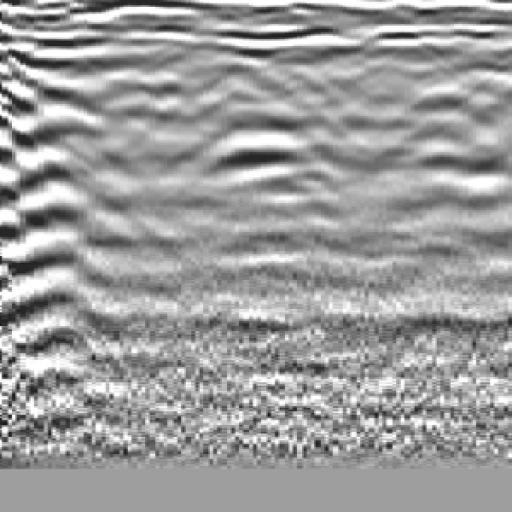metalic: (178, 19, 343, 289)
nonmetalic: (1, 34, 114, 320)
